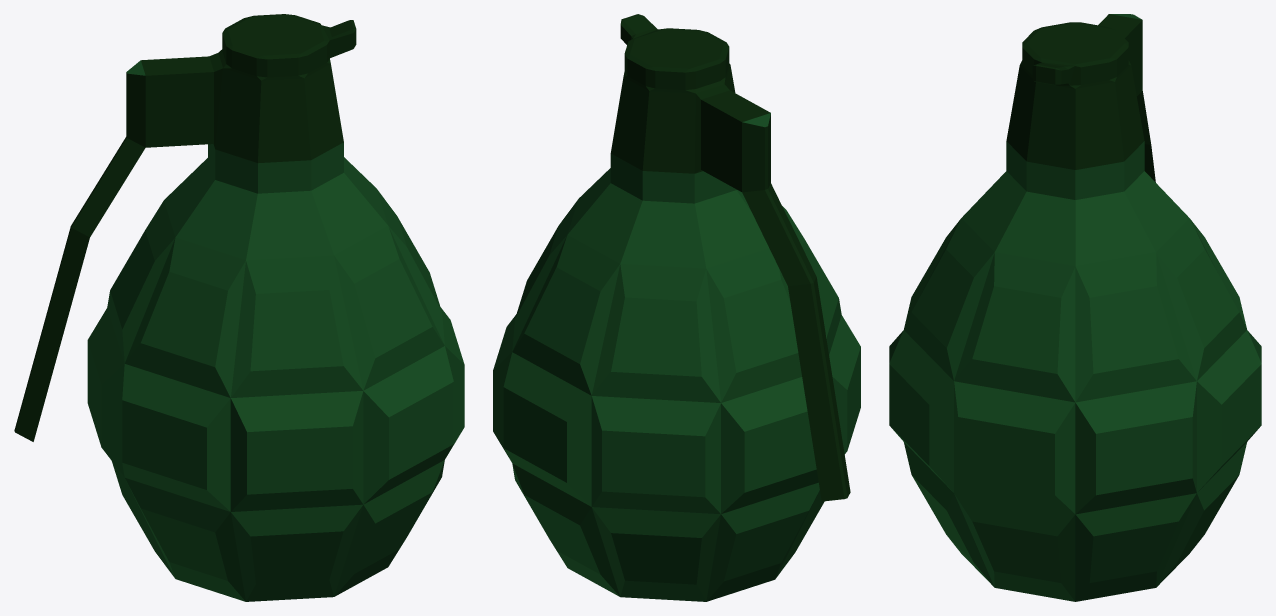
File: granada2.fbx
The picture shows the model from 3 angles, left to right: view 1: azimuth 30°, elevation 25°; view 2: azimuth 150°, elevation 25°; view 3: azimuth 270°, elevation 25°; orthographic projection. The views are drawn at different scales.
Parts seen in each view (by area): view 1: granada; view 2: granada; view 3: granada.
Boxes of the visible parts, box(x1,y1,x2,y2) form: granada: box(14, 14, 464, 601); granada: box(493, 14, 860, 601); granada: box(889, 14, 1261, 601).
Bounding box in the file's own units: 25 × 32.87 × 21.48.
